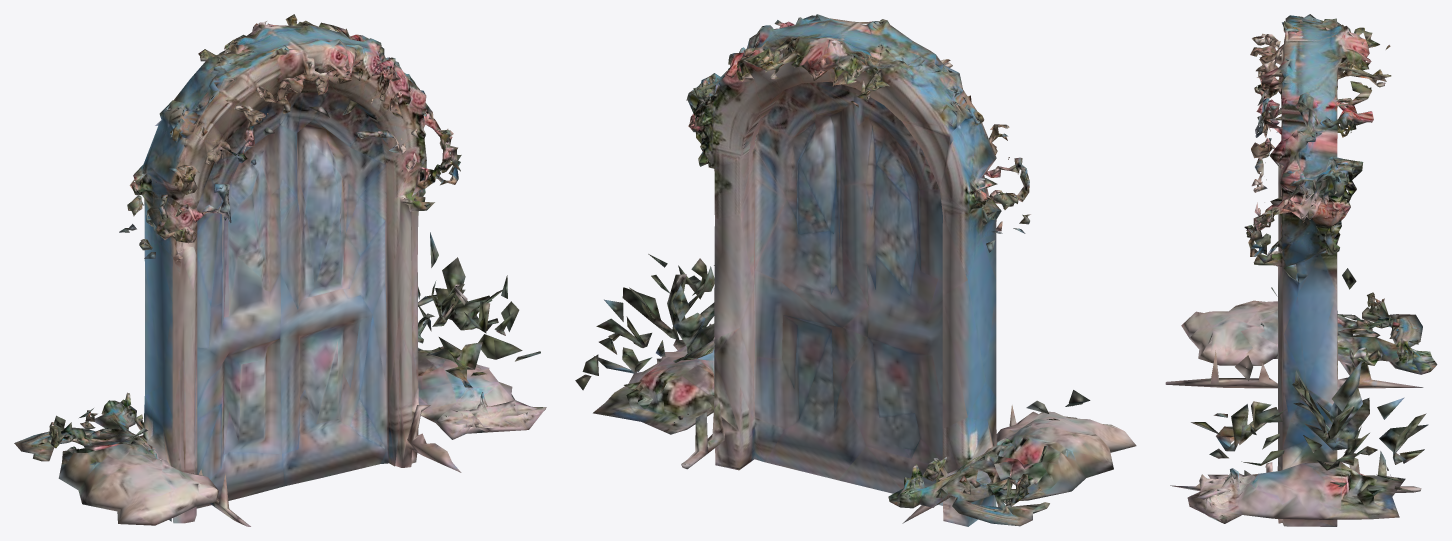
File: _Object_Charmi.glb
3 views of the same model, side by side, from view 1: azimuth 30°, elevation 25°; view 2: azimuth 150°, elevation 25°; view 3: azimuth 270°, elevation 25° (orthographic). The views are drawn at different scales.
Parts seen in each view (by area): view 1: _Object_Charmi; view 2: _Object_Charmi; view 3: _Object_Charmi.
Part boxes in pixels (x1,y1,x2,y2): _Object_Charmi: (14, 14, 546, 526); _Object_Charmi: (575, 14, 1136, 526); _Object_Charmi: (1165, 14, 1437, 526).
Bounding box in the file's own units: 1.93 × 1.81 × 1.01.
1 material, 1 textured.
